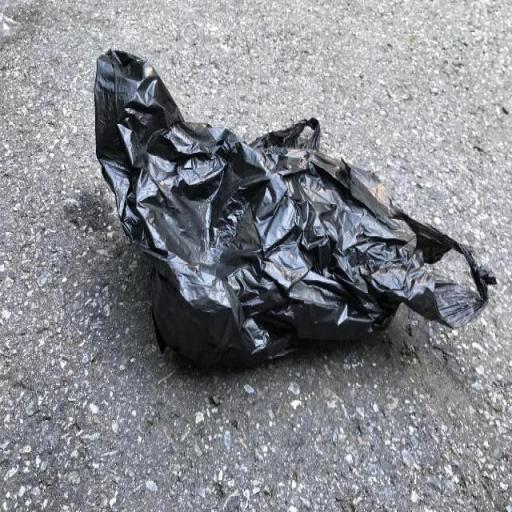plastic-bag: (92, 45, 498, 373)
